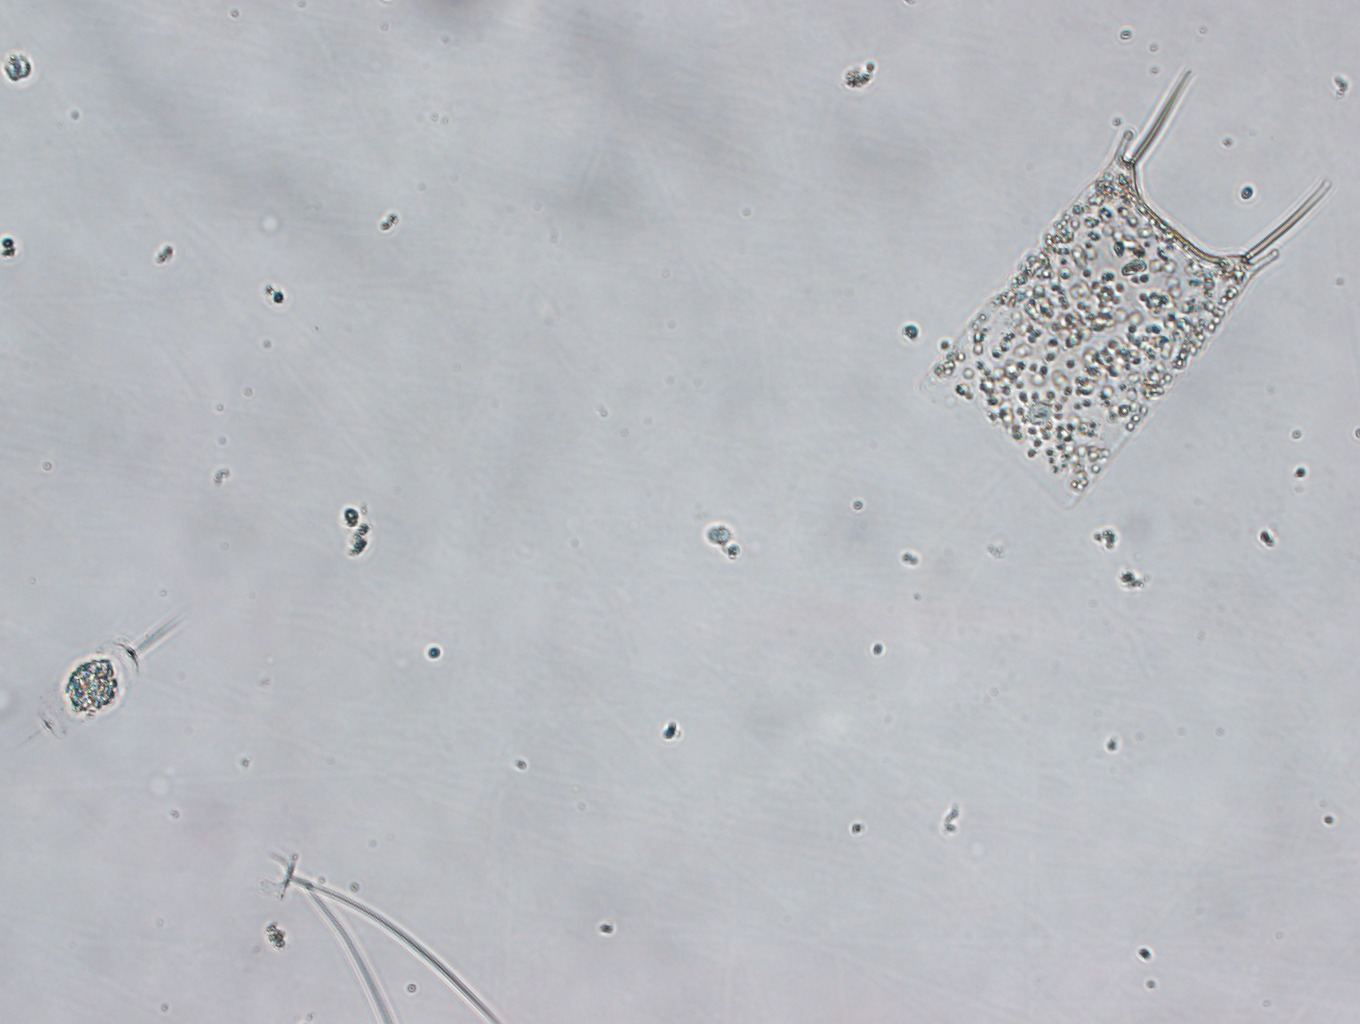biddulphia: (917, 62, 1332, 511)
ditylum: (8, 610, 186, 757)
